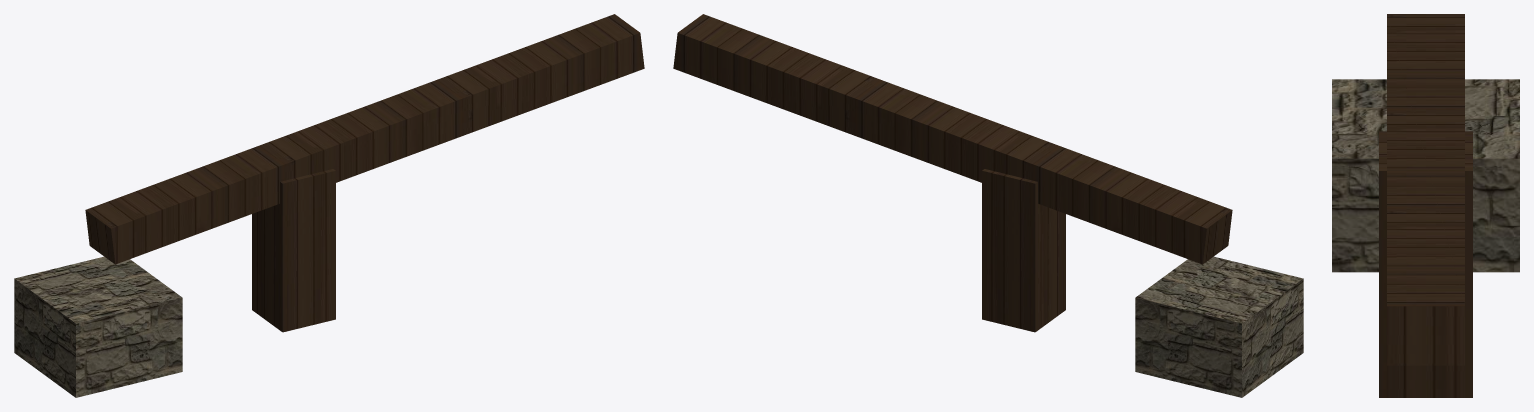
File: dideul_mortar_01.glb
3 views of the same model, side by side, from view 1: azimuth 30°, elevation 25°; view 2: azimuth 150°, elevation 25°; view 3: azimuth 270°, elevation 25° (orthographic). The views are drawn at different scales.
Parts seen in each view (by area): view 1: dideul_mortar_01; view 2: dideul_mortar_01; view 3: dideul_mortar_01.
Part boxes in pixels (<box>): dideul_mortar_01: <box>14,14,644,397</box>; dideul_mortar_01: <box>673,14,1303,397</box>; dideul_mortar_01: <box>1332,14,1519,397</box>.
Bounding box in the file's own units: 3.3 × 1.13 × 0.6.
Materials: 2 (2 with a texture image).
